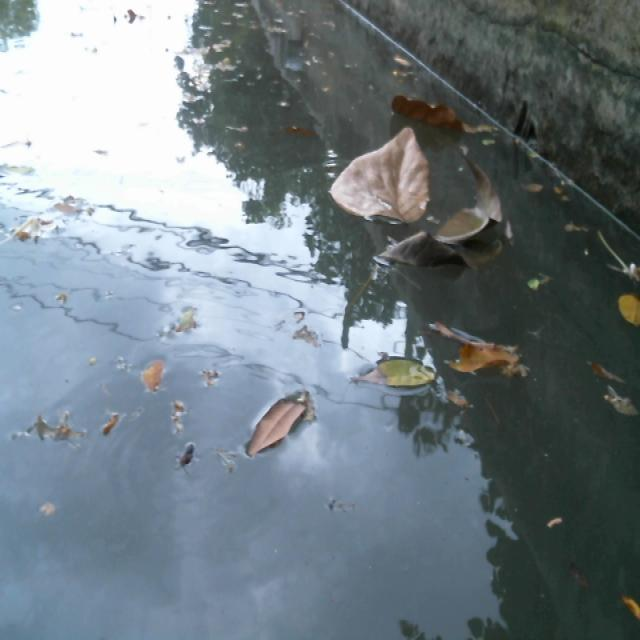Big-leaf: (336, 105, 433, 250), (404, 157, 507, 277), (430, 313, 536, 396), (388, 78, 498, 142)
Small-leaf: (238, 383, 319, 473), (347, 337, 435, 393), (596, 357, 640, 434), (274, 104, 324, 148), (133, 348, 177, 393), (603, 284, 640, 336), (617, 574, 640, 637), (522, 172, 552, 201), (385, 53, 415, 80)
